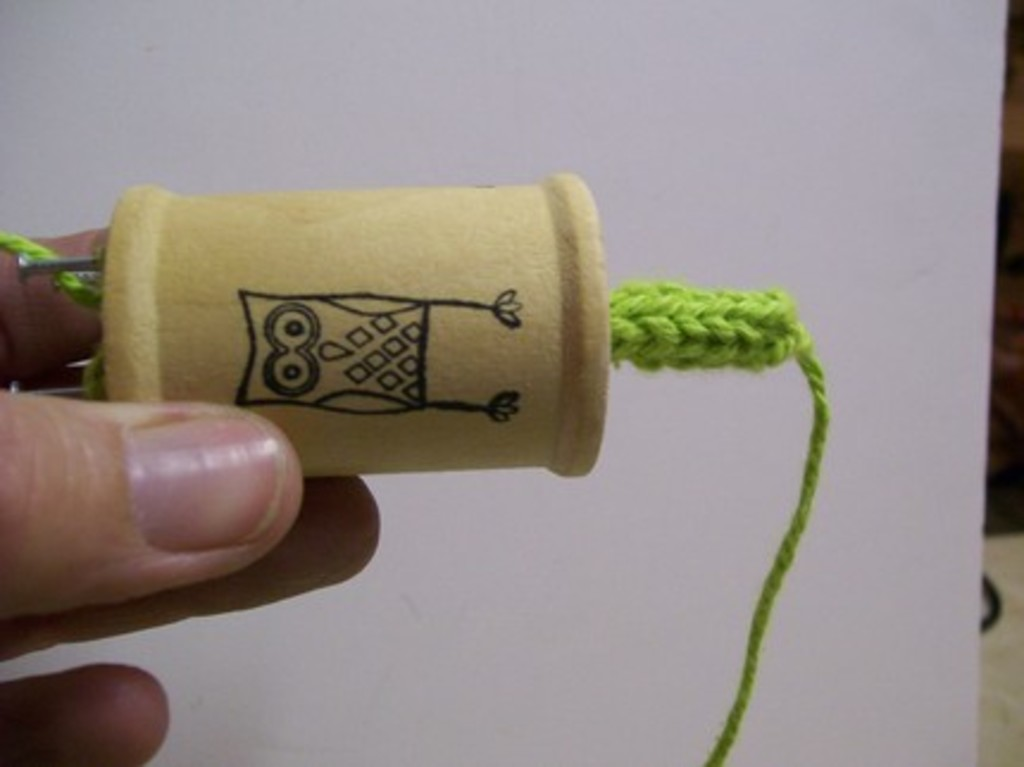Human_hand: (0, 226, 381, 765)
